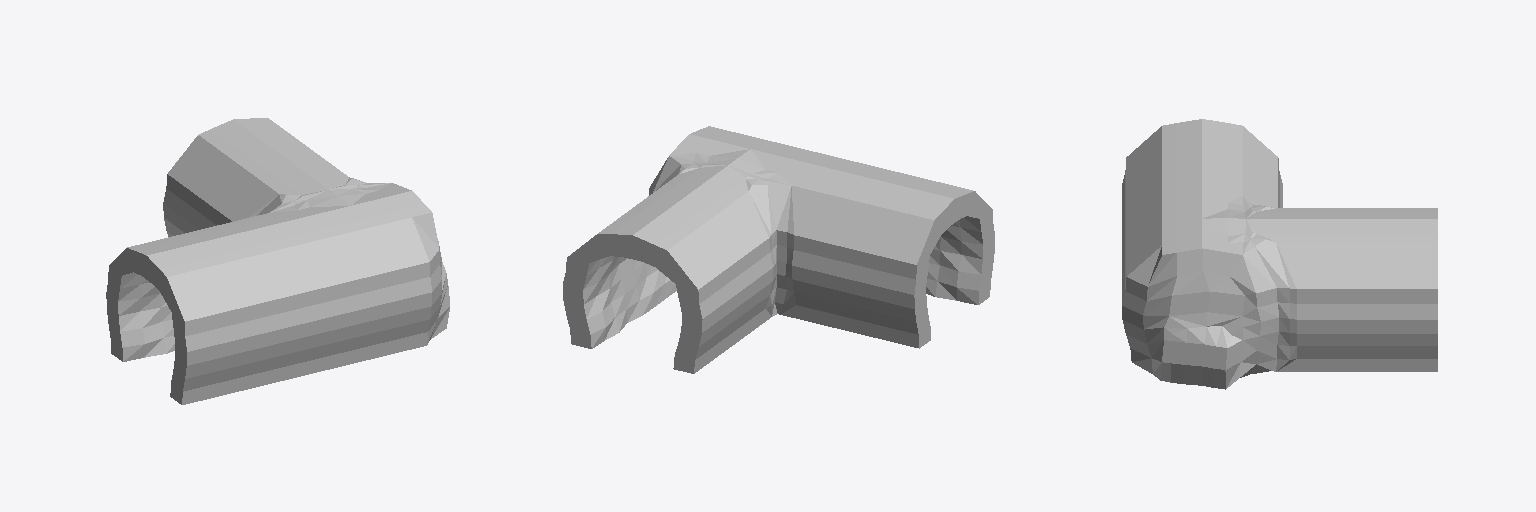
Rendered from model3detailed.obj.
3 views of the same model, side by side, from view 1: azimuth 30°, elevation 25°; view 2: azimuth 150°, elevation 25°; view 3: azimuth 270°, elevation 25° (orthographic).
Visible parts, largest first — view 1: Cube.008; view 2: Cube.008; view 3: Cube.008.
Part boxes in pixels (x1,y1,x2,y2): Cube.008: (106, 118, 449, 404); Cube.008: (563, 126, 994, 373); Cube.008: (1122, 119, 1437, 389).
Size of the model in its own units: 14.49 by 6.08 by 13.43.